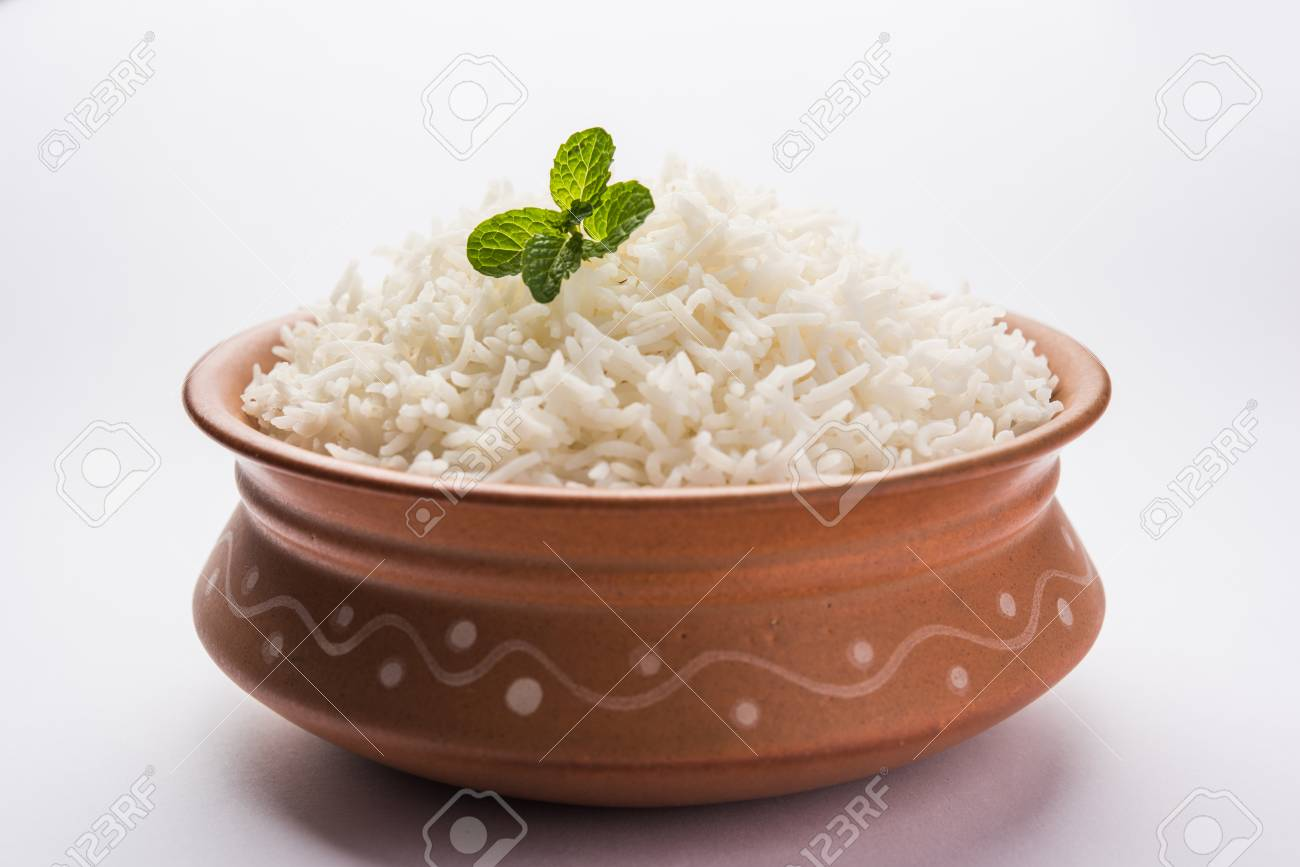plain rice: (280, 180, 1076, 479)
